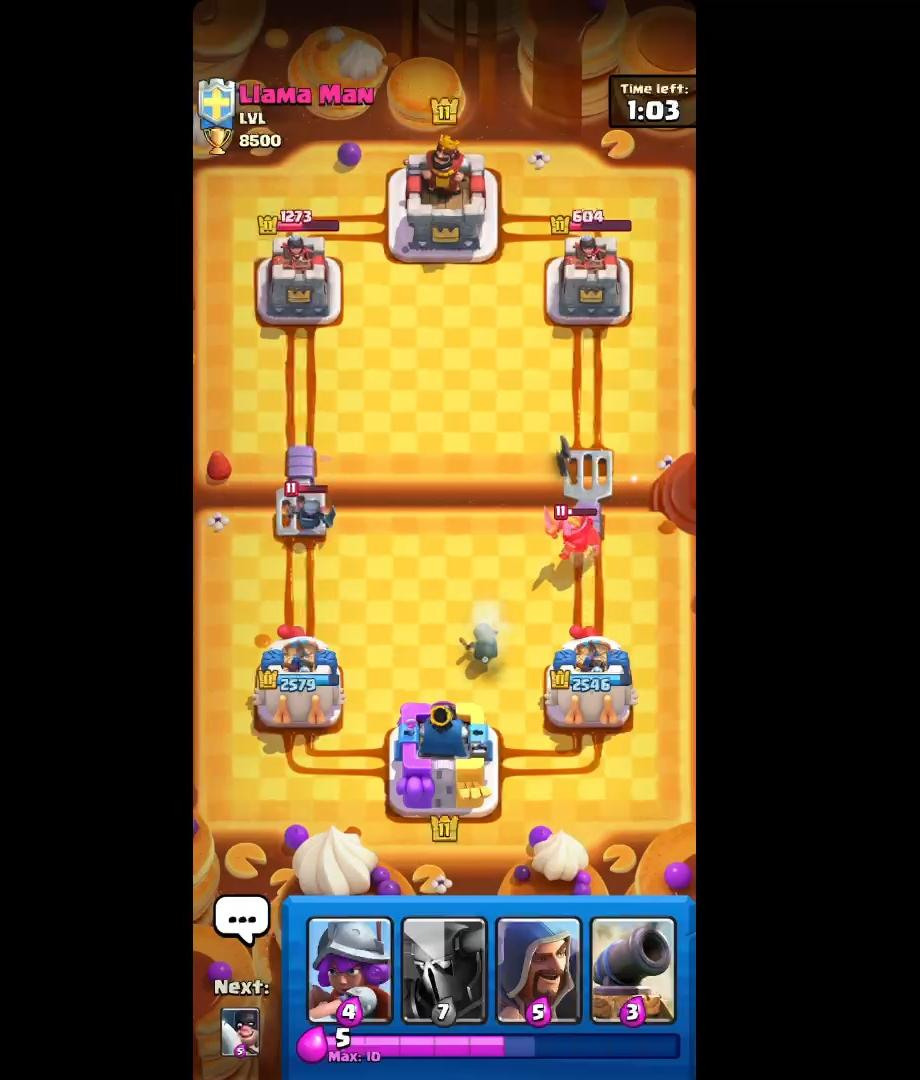Knight: (536, 497, 619, 571)
Mini Pekka: (280, 469, 338, 547)
